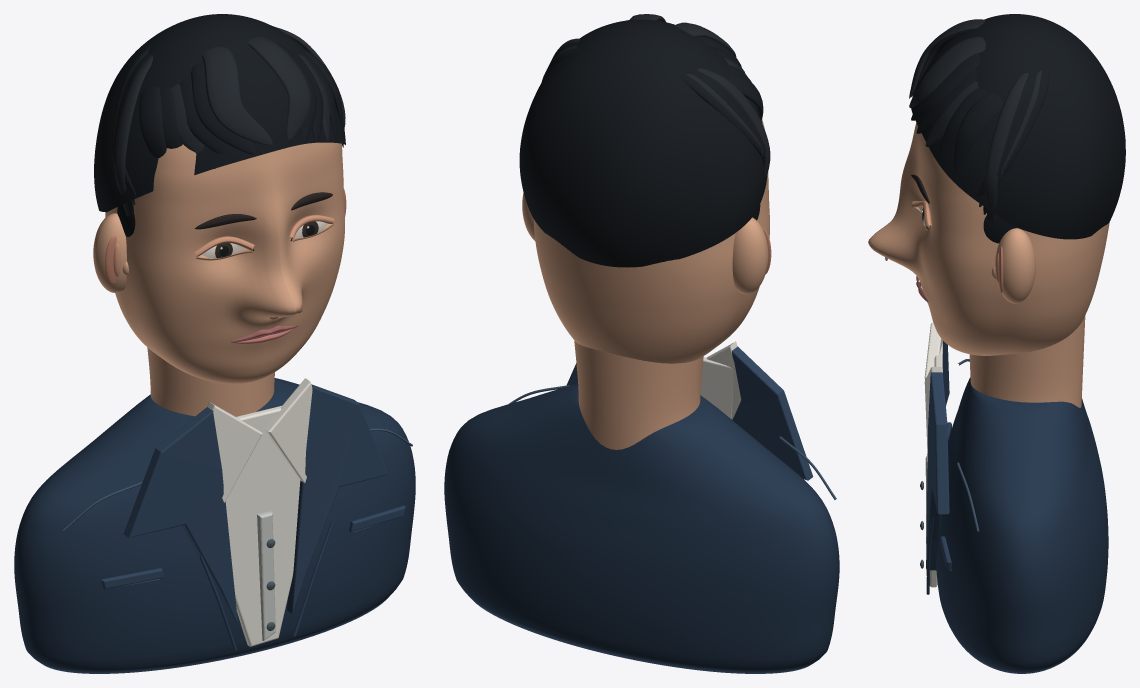
Rendered from portrait.glb.
The picture shows the model from 3 angles, left to right: view 1: azimuth 30°, elevation 25°; view 2: azimuth 150°, elevation 25°; view 3: azimuth 270°, elevation 25°; orthographic projection. The views are drawn at different scales.
Visible parts, largest first — view 1: Complete jacket torso and shoulders, Continuous sculpted oval head, Folded blue jacket collar (×2), Continuous swept hair shell, Swept front sculpted lock (×9), Visible shirt chest, White shirt collar wing (×2), Neck and nape, Shirt button placket, Side hair flow, Left sculpted ear, Jacket chest pocket welt (×2); view 2: Complete jacket torso and shoulders, Continuous swept hair shell, Continuous sculpted oval head, Neck and nape, Folded blue jacket collar, Left sculpted ear, Side hair flow (×2), Visible shirt chest, White shirt collar wing, Swept front sculpted lock; view 3: Complete jacket torso and shoulders, Continuous swept hair shell, Continuous sculpted oval head, Swept front sculpted lock (×7), Neck and nape, Side hair flow (×5), Folded blue jacket collar, Right sculpted ear, Short tapered sideburn, White shirt collar wing.
Part boxes in pixels (<box>): Complete jacket torso and shoulders: <box>14,378,415,673</box>; Continuous sculpted oval head: <box>105,142,344,383</box>; Folded blue jacket collar (×2): <box>123,384,388,626</box>; Continuous swept hair shell: <box>94,14,345,212</box>; Swept front sculpted lock (×9): <box>138,37,323,168</box>; Visible shirt chest: <box>225,405,300,646</box>; White shirt collar wing (×2): <box>207,378,312,502</box>; Neck and nape: <box>147,347,274,416</box>; Shirt button placket: <box>257,511,275,640</box>; Side hair flow: <box>114,55,153,216</box>; Left sculpted ear: <box>93,213,126,292</box>; Jacket chest pocket welt (×2): <box>101,505,405,589</box>; Complete jacket torso and shoulders: <box>444,383,839,673</box>; Continuous swept hair shell: <box>519,19,767,267</box>; Continuous sculpted oval head: <box>533,119,769,363</box>; Neck and nape: <box>574,341,703,449</box>; Folded blue jacket collar: <box>732,346,813,480</box>; Left sculpted ear: <box>732,217,768,294</box>; Side hair flow (×2): <box>664,63,770,177</box>; Visible shirt chest: <box>700,357,733,418</box>; White shirt collar wing: <box>706,341,741,419</box>; Swept front sculpted lock: <box>729,72,763,119</box>; Complete jacket torso and shoulders: <box>936,377,1108,673</box>; Continuous swept hair shell: <box>911,14,1125,239</box>; Continuous sculpted oval head: <box>868,123,1109,355</box>; Swept front sculpted lock (×7): <box>909,19,1003,172</box>; Neck and nape: <box>969,316,1085,407</box>; Side hair flow (×5): <box>976,54,1049,222</box>; Folded blue jacket collar: <box>926,372,949,570</box>; Right sculpted ear: <box>995,228,1035,303</box>; Short tapered sideburn: <box>983,215,1016,243</box>; White shirt collar wing: <box>924,322,942,380</box>.
Size of the model in its own units: 2.72 by 3.99 by 1.64.
